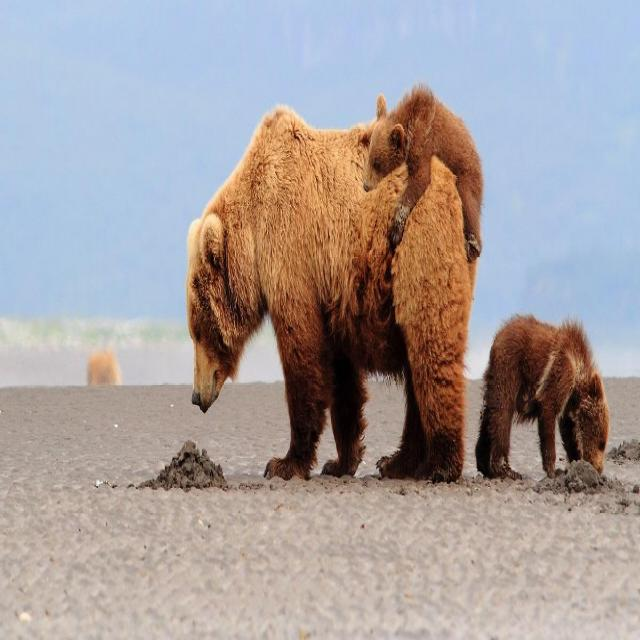Bear: (185, 106, 474, 485), (475, 315, 611, 486), (374, 91, 483, 300)
